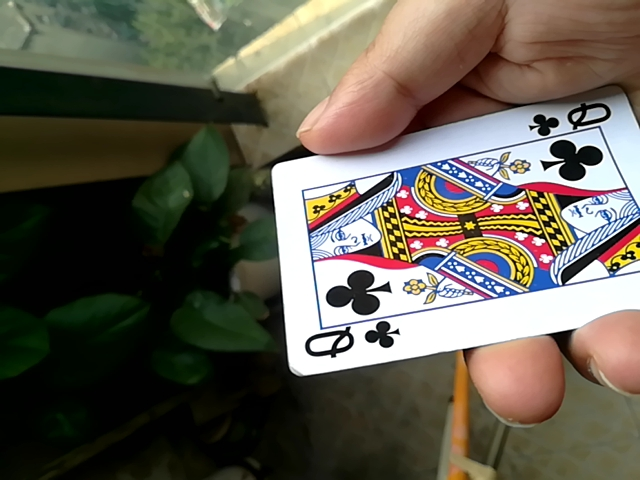mh q: (261, 83, 640, 374)
